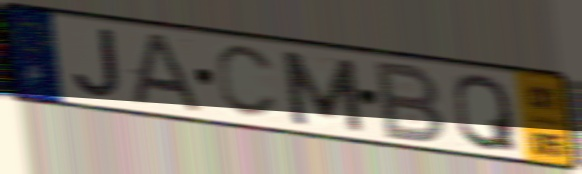A: (125, 31, 207, 116)
B: (374, 58, 450, 146)
C: (213, 43, 280, 122)
J: (70, 27, 123, 103)
M: (277, 47, 368, 136)
Q: (451, 71, 521, 155)
